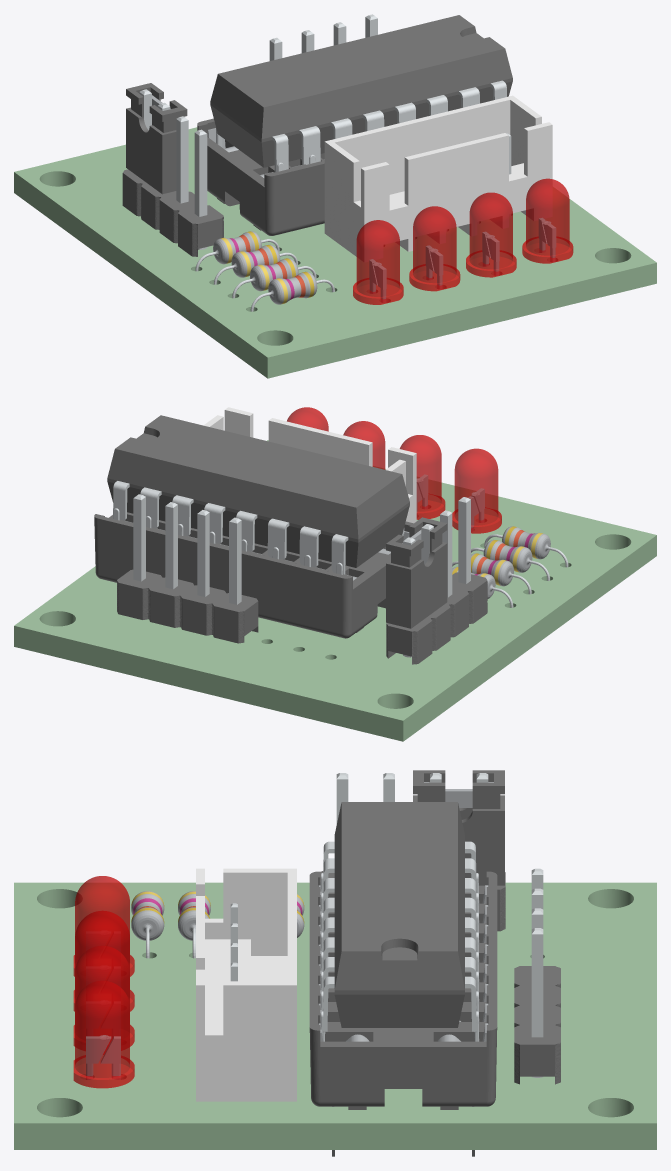
The model's file is uln2003_driver.glb.
3 views of the same model, one above another, from view 1: azimuth 30°, elevation 25°; view 2: azimuth 150°, elevation 25°; view 3: azimuth 270°, elevation 25° (orthographic). The views are drawn at different scales.
Visible parts, largest first — view 1: Node5, Node4, Node3, Node10, Node2, Node1; view 2: Node4, Node5, Node2, Node10, Node3, Node1; view 3: Node5, Node4, Node3, Node10, Node2, Node1.
Boxes of the visible parts, x1,y1,x2,y2 form: Node5: (14,127,656,378); Node4: (122,15,512,256); Node3: (324,95,552,261); Node10: (353,178,573,304); Node2: (139,14,511,311); Node1: (152,95,556,304); Node4: (94,415,487,664); Node5: (14,440,656,741); Node2: (113,481,568,657); Node10: (287,407,501,533); Node3: (203,407,416,523); Node1: (124,474,550,598); Node5: (14,882,656,1149); Node4: (309,770,560,1109); Node3: (196,868,296,1101); Node10: (73,876,134,1088); Node2: (146,773,543,1077); Node1: (86,782,493,1156).
Size of the model in its own units: 31 by 12.67 by 35.
